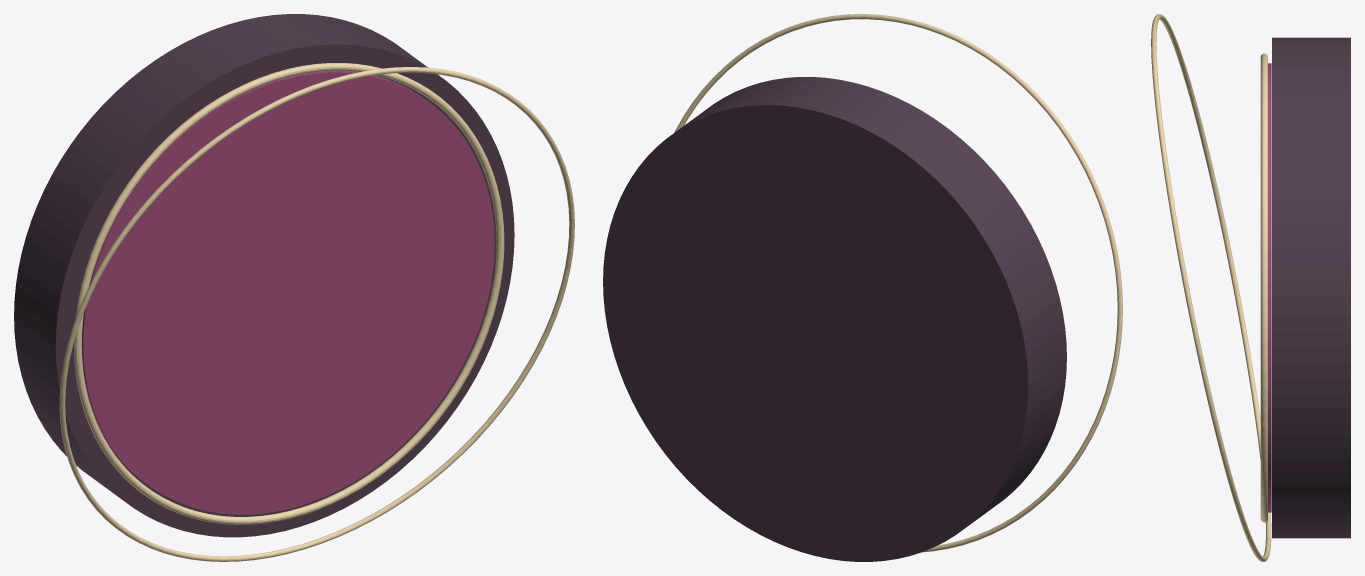
File: 01_project_pedestal.glb
The picture shows the model from 3 angles, left to right: view 1: azimuth 30°, elevation 25°; view 2: azimuth 150°, elevation 25°; view 3: azimuth 270°, elevation 25°; orthographic projection. The views are drawn at different scales.
Visible parts, largest first — view 1: Pedestal upper inset, Obsidian pedestal, Gold rim, Floating halo; view 2: Obsidian pedestal, Floating halo; view 3: Obsidian pedestal, Floating halo, Gold rim, Pedestal upper inset.
Boxes of the visible parts, box(x1,y1,x2,y2) form: Pedestal upper inset: box(81, 71, 494, 514); Obsidian pedestal: box(14, 14, 514, 537); Gold rim: box(74, 63, 504, 524); Floating halo: box(59, 67, 574, 561); Obsidian pedestal: box(603, 77, 1066, 561); Floating halo: box(674, 14, 1122, 552); Obsidian pedestal: box(1272, 37, 1350, 538); Floating halo: box(1151, 14, 1271, 561); Gold rim: box(1260, 53, 1267, 522); Pedestal upper inset: box(1268, 63, 1271, 512).
Size of the model in its own units: 3.68 by 3.6 by 1.32.
